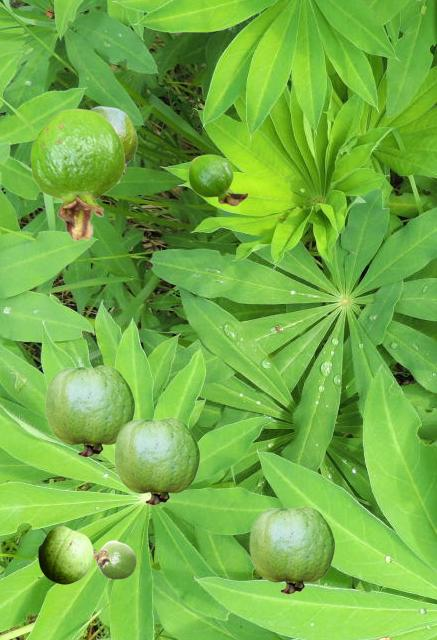guava: (30, 108, 124, 240), (45, 365, 134, 456), (114, 417, 199, 504), (249, 506, 334, 593), (38, 526, 92, 583), (91, 106, 136, 174), (188, 154, 247, 205), (93, 540, 135, 578)
